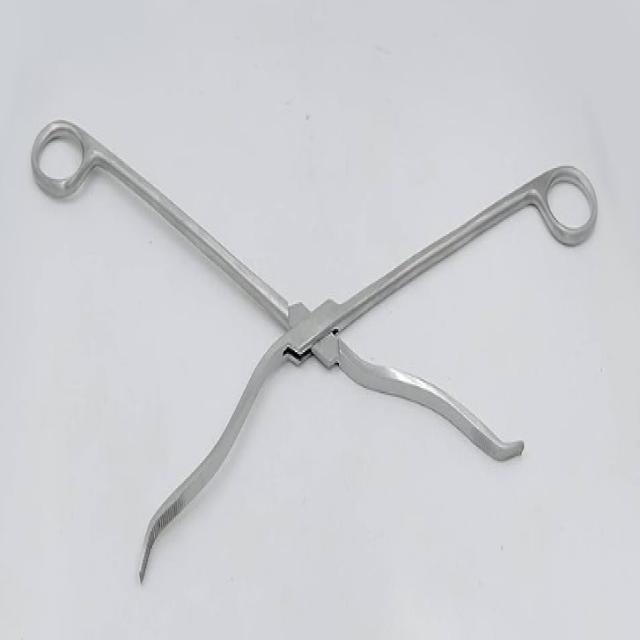Cheatle Forceps: (30, 108, 600, 586)
